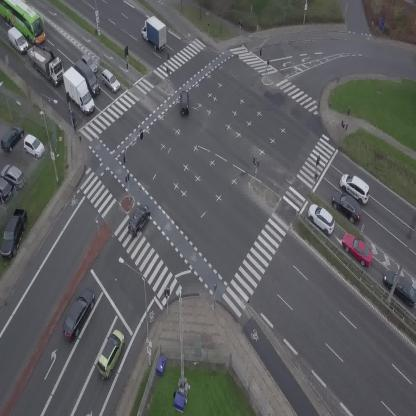bicycle: (72, 114, 79, 132)
car: (56, 284, 100, 343), (92, 327, 129, 381), (337, 227, 379, 270), (326, 186, 368, 226), (334, 169, 376, 207), (303, 200, 341, 237), (122, 201, 155, 238), (97, 67, 124, 94), (79, 50, 101, 73), (180, 91, 189, 114)
lorry: (17, 33, 72, 88), (58, 63, 97, 118), (135, 13, 176, 53), (72, 57, 104, 98), (3, 25, 33, 55)
